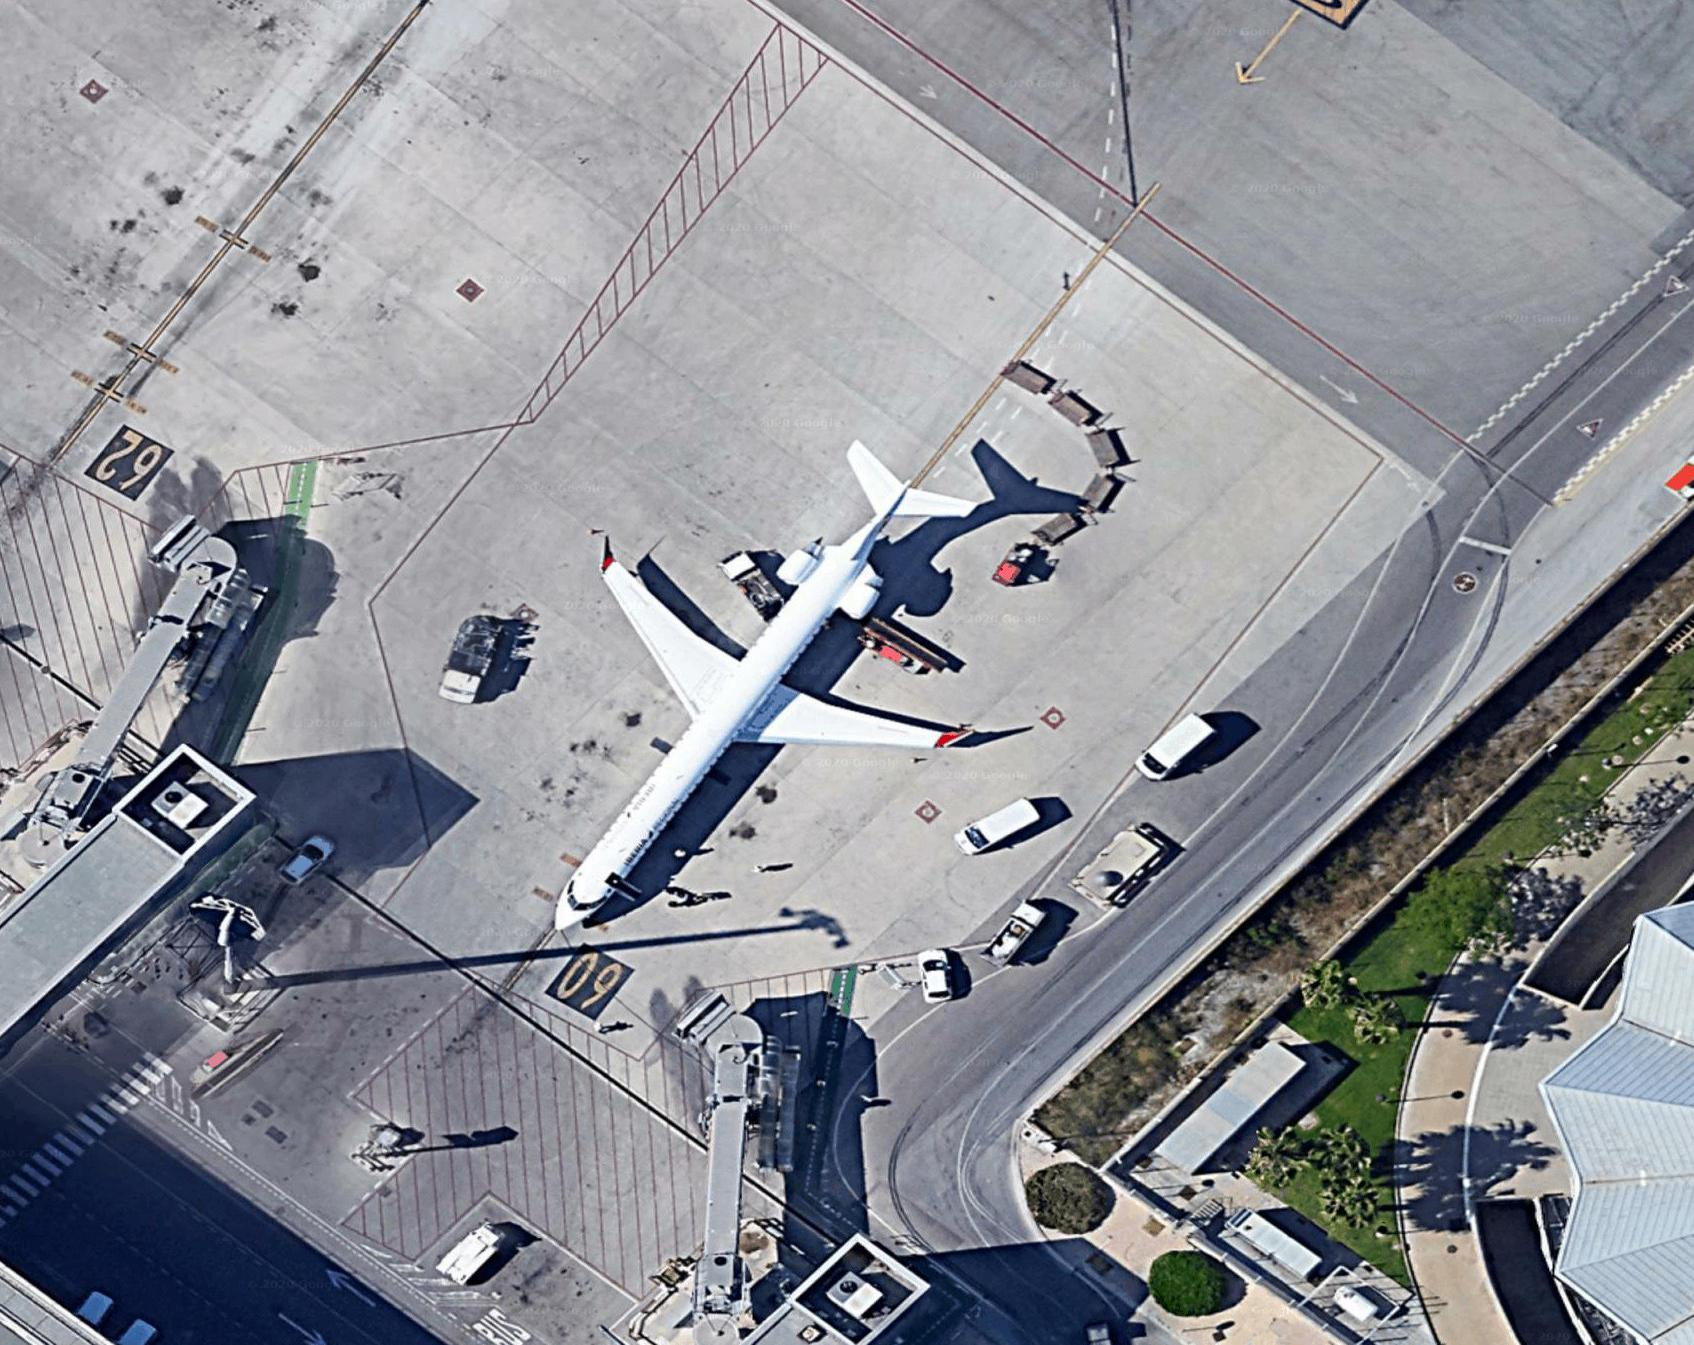large-vehicle: (956, 795, 1039, 860), (983, 904, 1044, 965)
plane: (418, 358, 1103, 1025)
small-vehicle: (271, 831, 337, 890)
